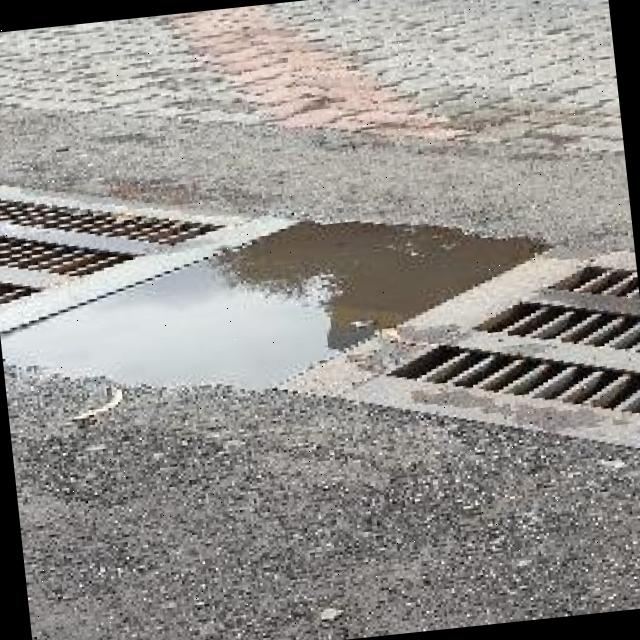waterlogging: (44, 220, 546, 416)
